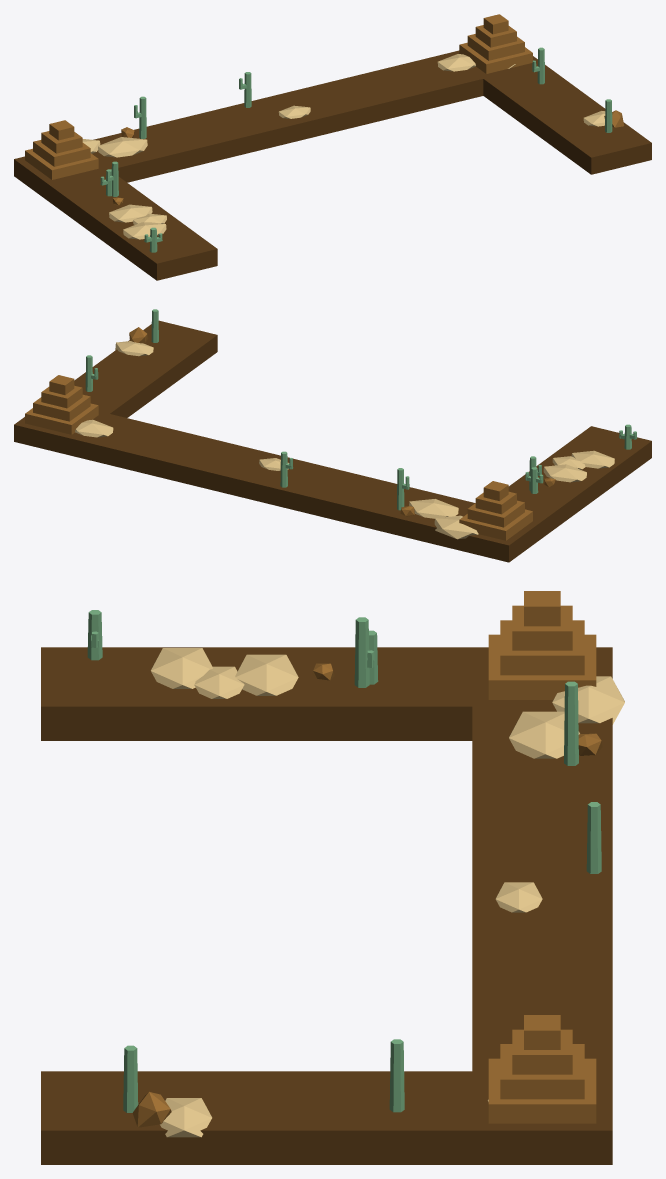
File: desert.glb
3 renders of one model, top to bottom at view 1: azimuth 30°, elevation 25°; view 2: azimuth 150°, elevation 25°; view 3: azimuth 270°, elevation 25°, orthographic. The views are drawn at different scales.
Parts seen in each view (by area): view 1: field_desert; view 2: field_desert; view 3: field_desert.
Part boxes in pixels (<box>): field_desert: <box>14,14,651,280</box>; field_desert: <box>14,309,651,562</box>; field_desert: <box>41,591,624,1164</box>.
Size of the model in its own units: 10.71 by 1.16 by 5.42.
